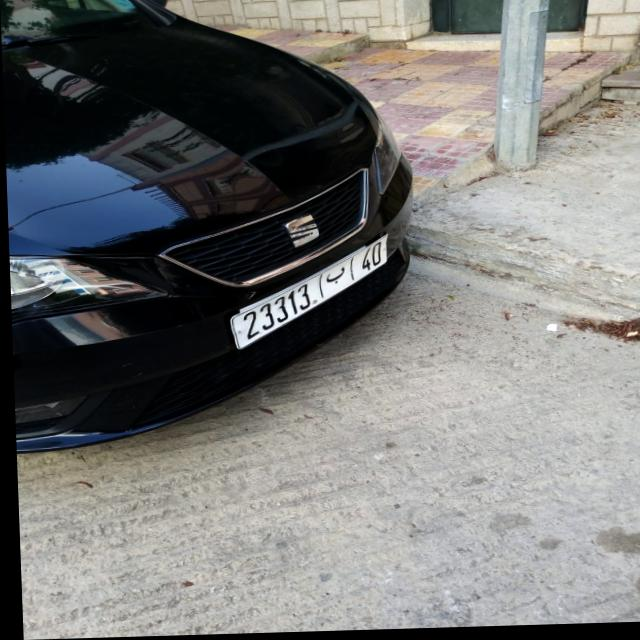License-Plate: (228, 238, 386, 351)
